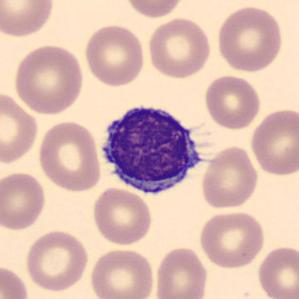Lymphocyte: (94, 97, 208, 200)
RBC: (11, 42, 86, 116), (36, 118, 103, 194), (214, 3, 285, 74), (146, 16, 214, 80), (196, 208, 266, 270), (82, 22, 147, 88), (23, 228, 90, 292), (199, 143, 260, 211), (90, 186, 154, 247), (87, 246, 156, 299), (248, 106, 298, 178), (202, 72, 262, 131), (152, 244, 210, 299), (0, 89, 40, 166), (0, 170, 47, 232), (255, 244, 298, 299), (0, 0, 57, 40), (121, 0, 187, 20), (0, 261, 31, 299)
